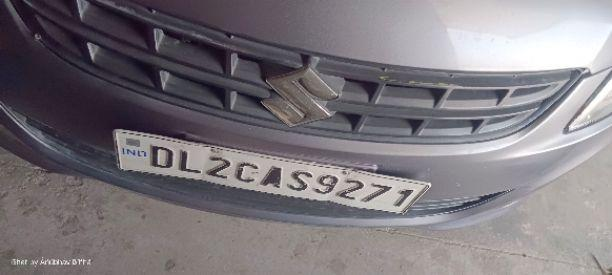license_plate: (1, 0, 610, 230), (111, 127, 431, 216)
